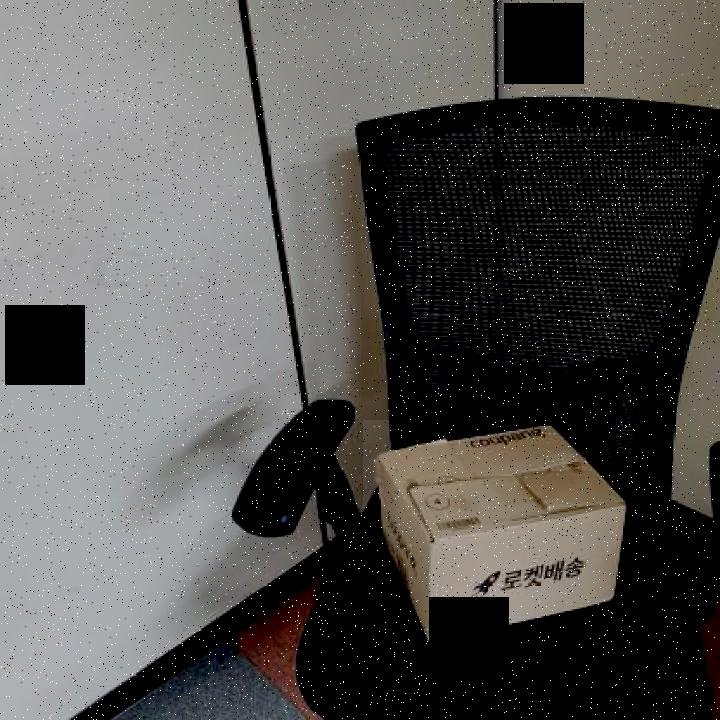box: (363, 420, 641, 650)
